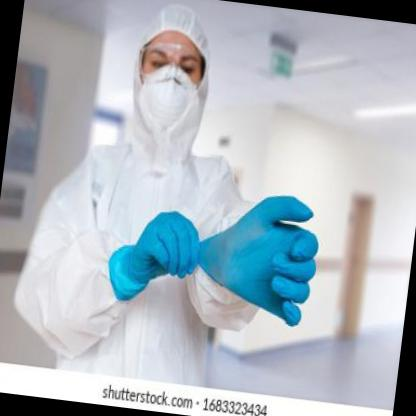Gloves: (190, 184, 325, 328), (105, 203, 203, 311)
